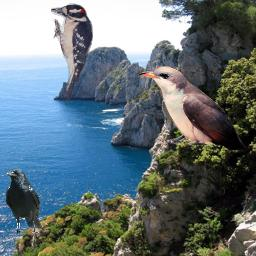Crow: (6, 169, 42, 233)
Cuckoo: (138, 66, 248, 151)
Woodpecker: (51, 2, 95, 101)
